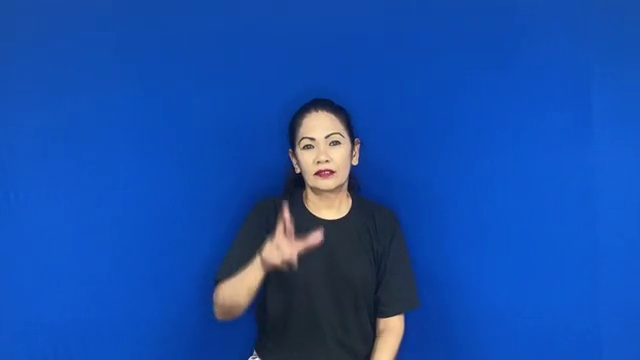chicken: (246, 197, 329, 280)
